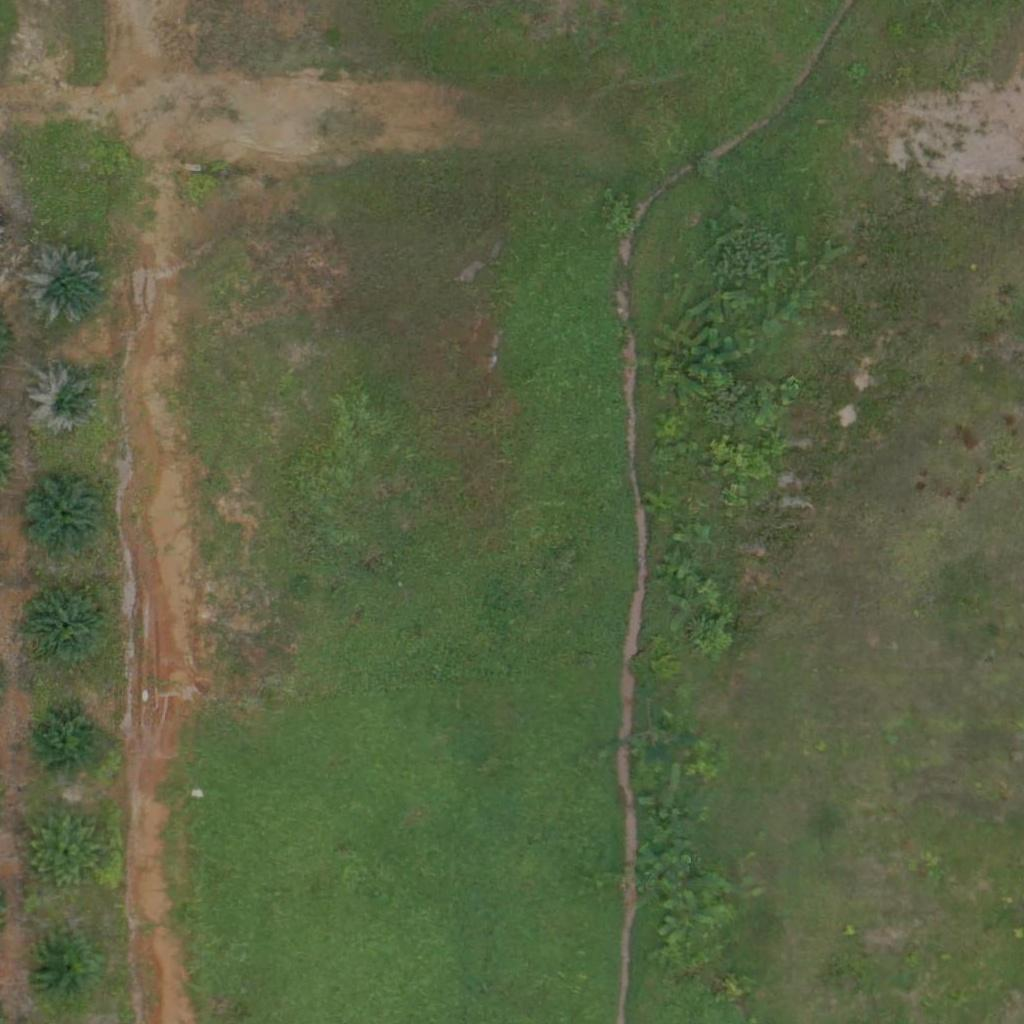Kelapa_Sawit: (18, 243, 106, 331), (20, 473, 108, 561), (21, 584, 109, 672), (30, 364, 105, 440), (25, 812, 100, 887), (32, 704, 107, 779), (30, 935, 93, 998)
